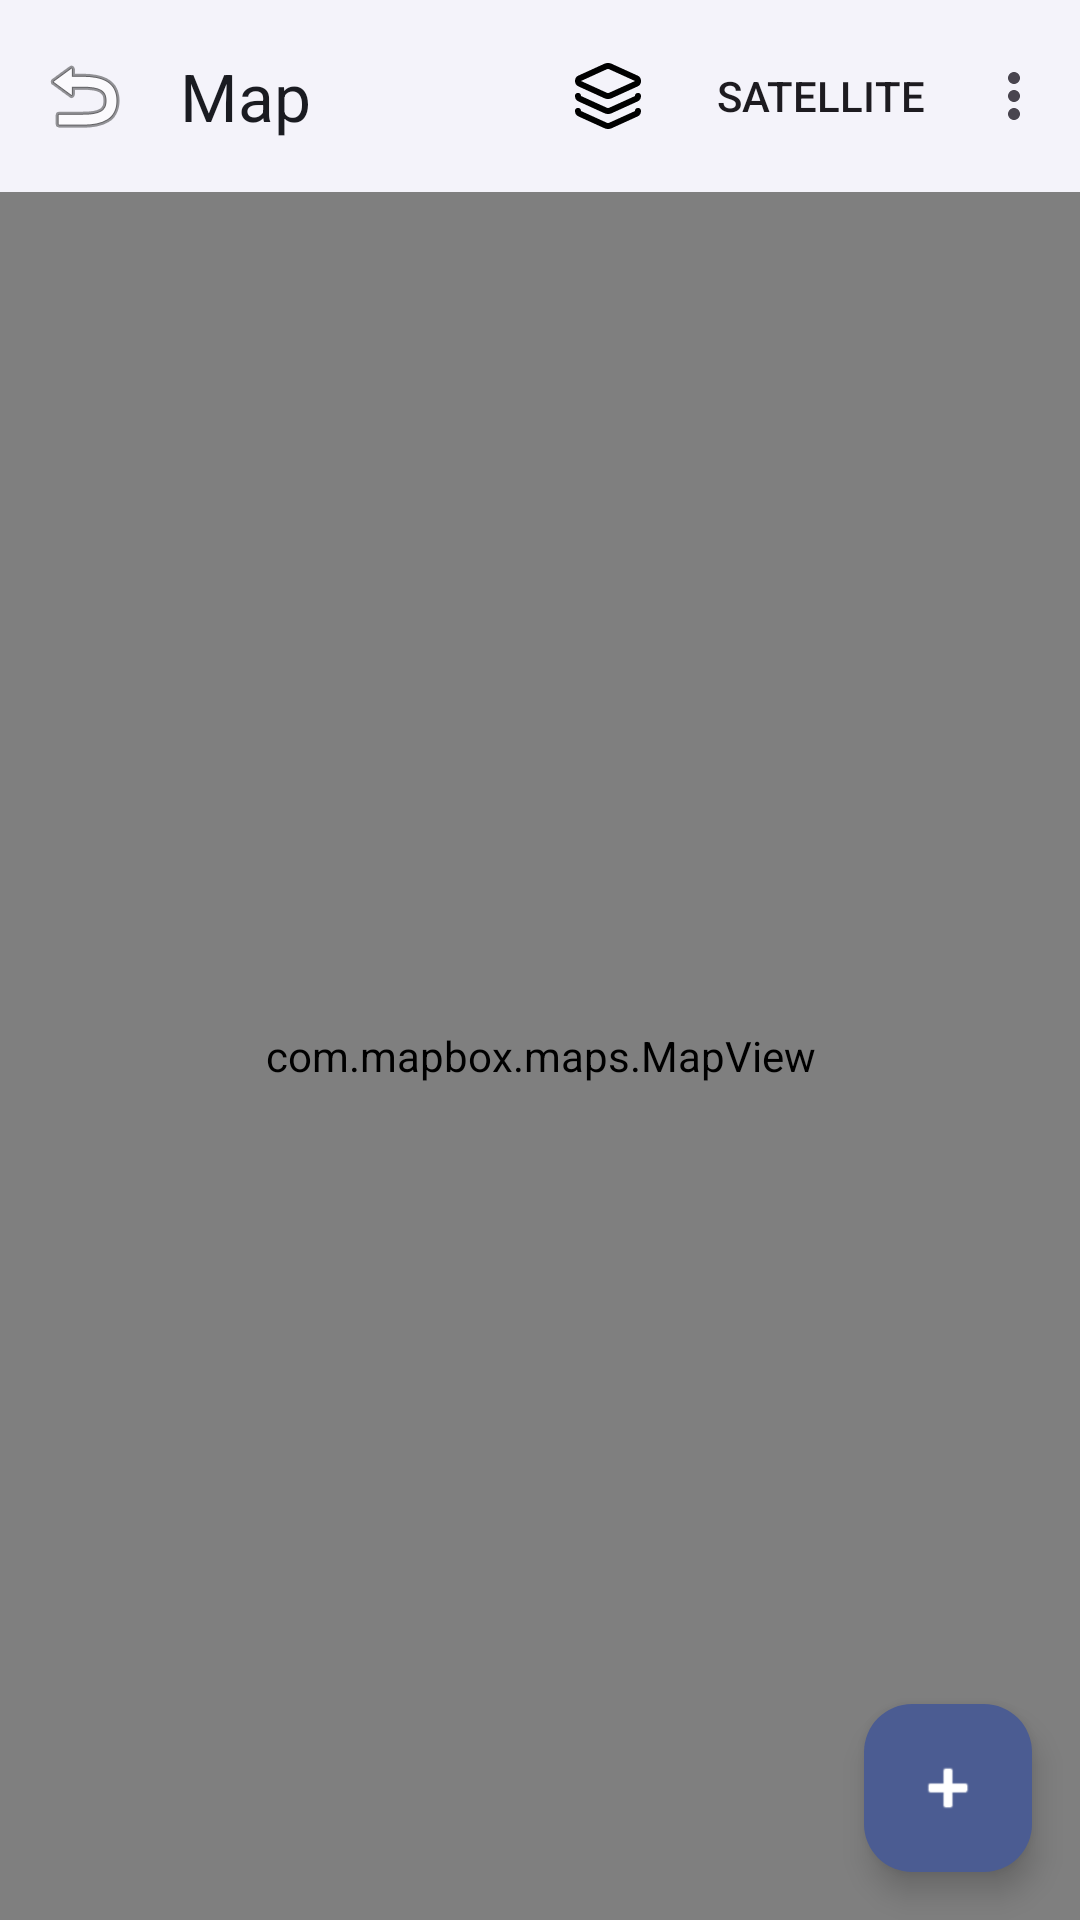

Icons on this 1080 x 1920 Android screen, each with the point to tap as point (x, y):
Add feature: point (948, 1788)
